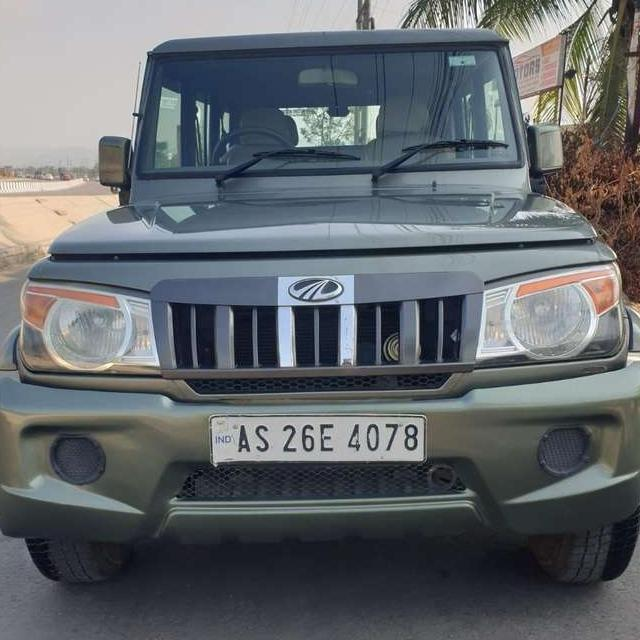Indian_Number_Plate: (209, 417, 428, 462)
